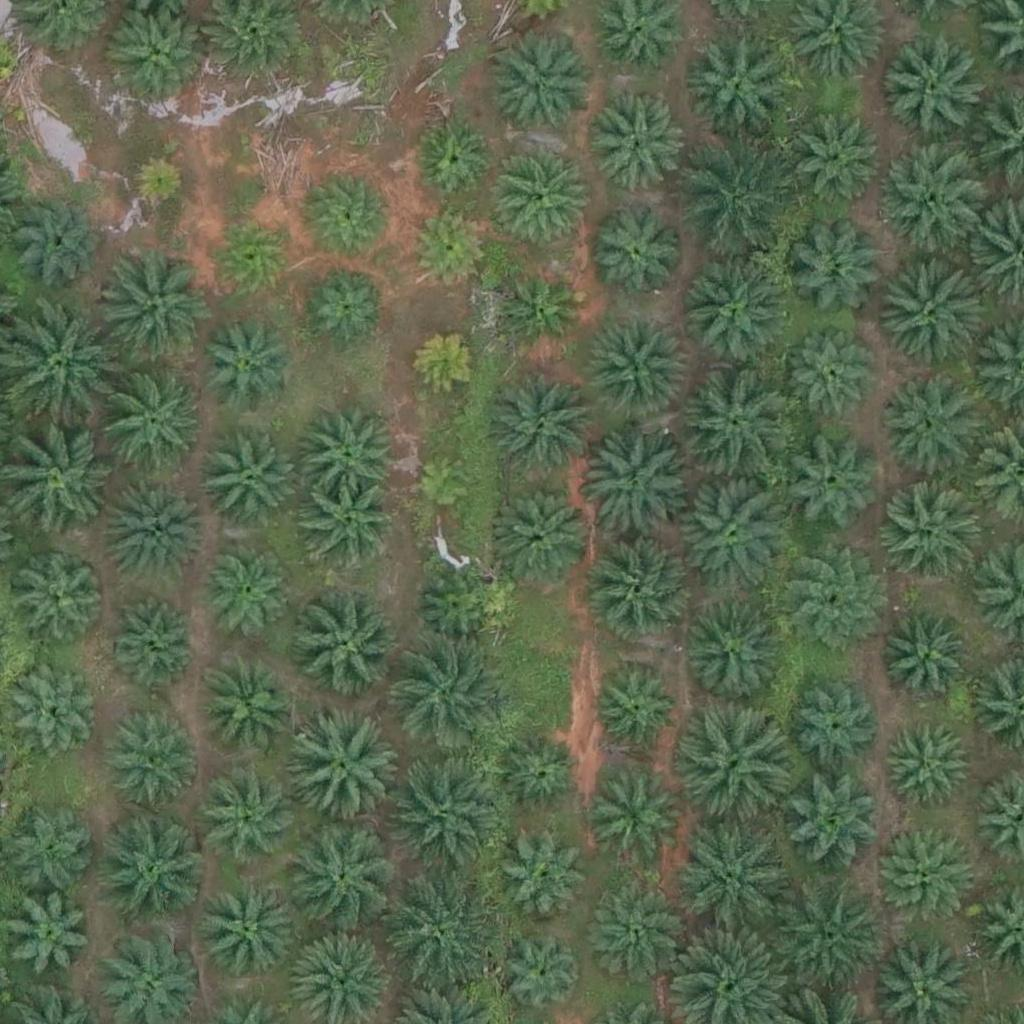Kelapa_Sawit: (678, 481, 791, 595), (485, 365, 598, 479), (392, 758, 505, 872), (289, 586, 402, 700), (681, 363, 794, 476), (678, 700, 791, 813), (583, 431, 696, 544), (282, 714, 395, 827), (876, 146, 989, 259), (679, 27, 792, 140), (680, 150, 793, 263), (1, 313, 114, 426), (875, 268, 987, 382), (772, 879, 884, 992), (677, 821, 789, 934), (395, 637, 507, 750), (383, 877, 495, 990), (285, 821, 397, 934), (98, 249, 210, 362), (880, 833, 980, 934), (778, 774, 878, 875), (684, 601, 784, 702), (584, 318, 684, 419), (597, 541, 697, 642), (498, 482, 598, 583), (298, 402, 398, 503), (192, 315, 292, 416), (199, 431, 299, 532), (199, 655, 299, 756), (201, 772, 301, 873), (197, 883, 297, 984), (105, 371, 205, 472), (102, 704, 202, 805), (101, 823, 201, 924), (10, 544, 110, 645), (786, 217, 886, 318), (590, 86, 690, 187), (583, 209, 683, 310), (488, 38, 588, 139), (487, 146, 587, 247), (886, 483, 986, 583), (780, 323, 880, 423), (101, 486, 201, 586), (880, 35, 980, 135), (688, 260, 788, 360), (790, 103, 890, 203), (111, 5, 211, 105), (881, 381, 980, 482), (202, 553, 290, 642), (881, 609, 969, 697), (882, 722, 970, 810), (787, 566, 875, 654), (786, 436, 874, 524), (592, 887, 680, 975), (501, 838, 589, 926), (497, 932, 585, 1020), (415, 567, 503, 655), (307, 482, 395, 570), (107, 597, 195, 685), (306, 170, 394, 258), (306, 262, 394, 350), (404, 202, 492, 290), (412, 113, 500, 201), (19, 195, 107, 283), (593, 668, 680, 757), (794, 681, 881, 769), (597, 783, 684, 871), (496, 735, 583, 823), (8, 665, 95, 753), (8, 806, 95, 894), (5, 894, 92, 982), (207, 212, 294, 300), (497, 262, 584, 350), (409, 324, 484, 400), (124, 153, 187, 216), (414, 453, 476, 516)
